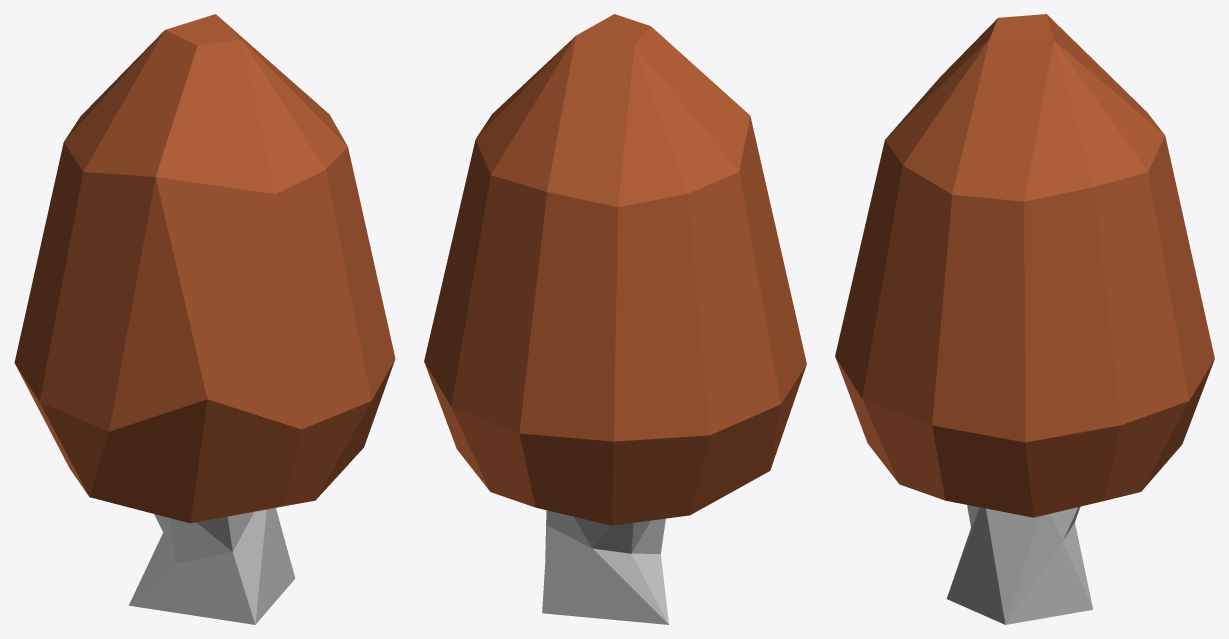
The model's file is paddenstoel1.fbx.
The picture shows the model from 3 angles, left to right: view 1: azimuth 30°, elevation 25°; view 2: azimuth 150°, elevation 25°; view 3: azimuth 270°, elevation 25°; orthographic projection.
Parts seen in each view (by area): view 1: PaddenStoelbruin; view 2: PaddenStoelbruin; view 3: PaddenStoelbruin.
Part boxes in pixels (box(x1,y1,x2,y2)): PaddenStoelbruin: box(14, 14, 395, 624); PaddenStoelbruin: box(424, 14, 806, 624); PaddenStoelbruin: box(835, 14, 1214, 624).
Bounding box in the file's own units: 322 × 530 × 323.
